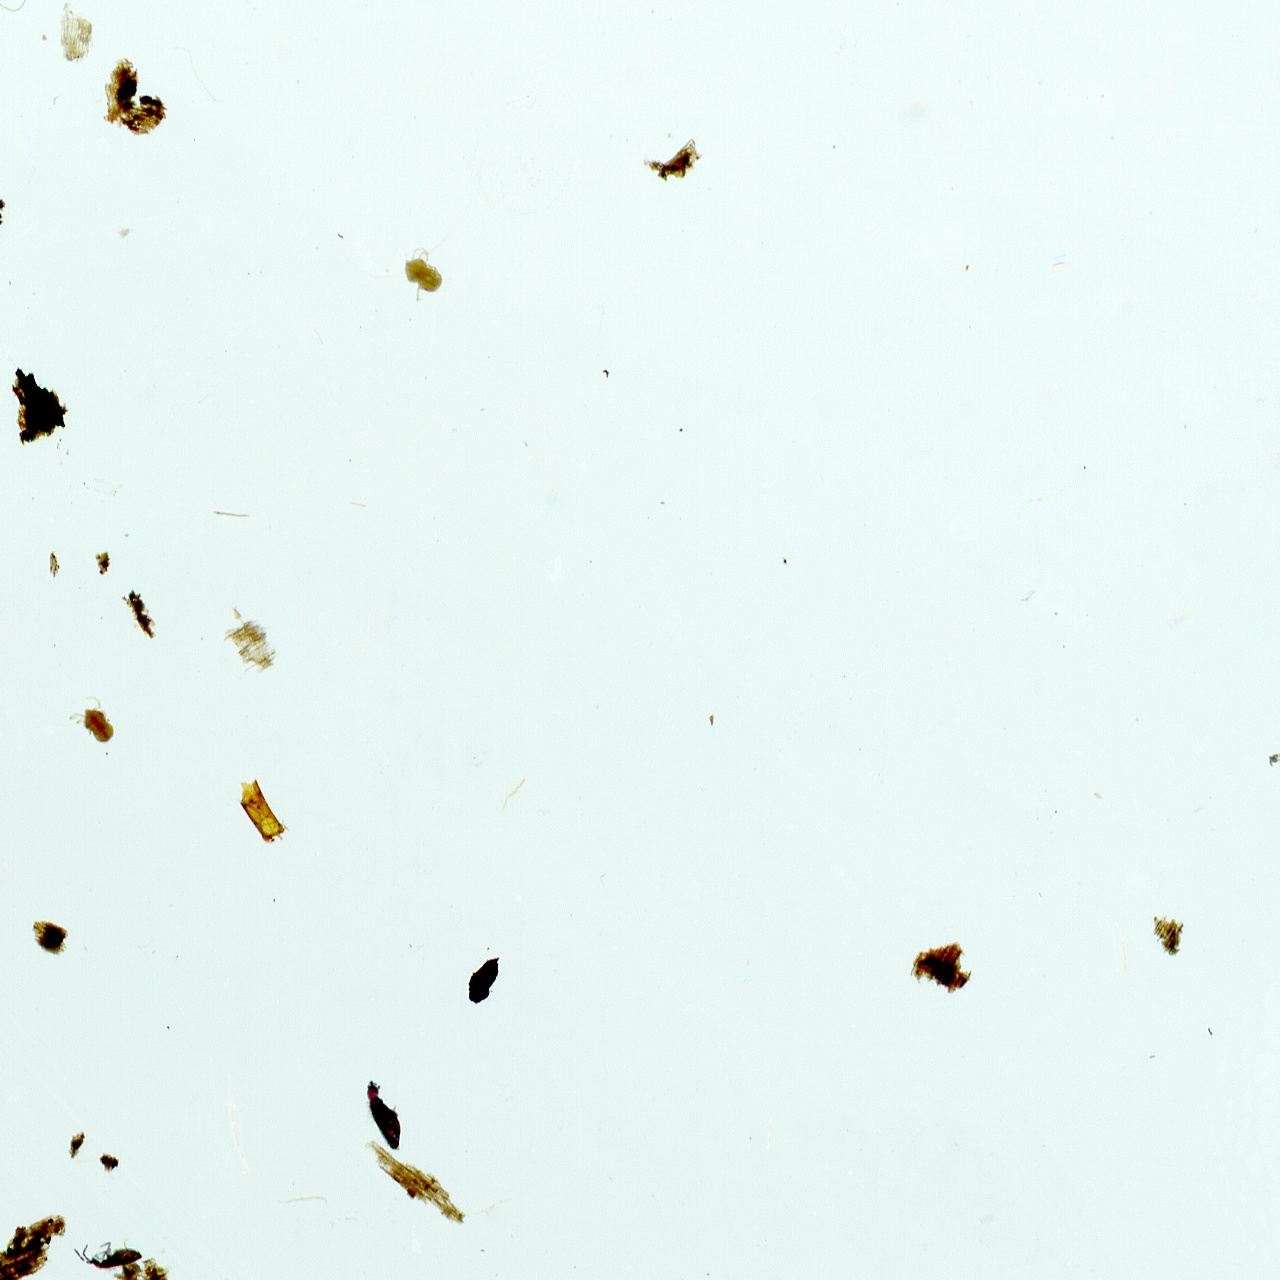arthropod: (364, 1071, 407, 1159), (69, 1233, 146, 1272), (68, 694, 121, 747), (399, 245, 447, 303), (1265, 747, 1280, 769)
